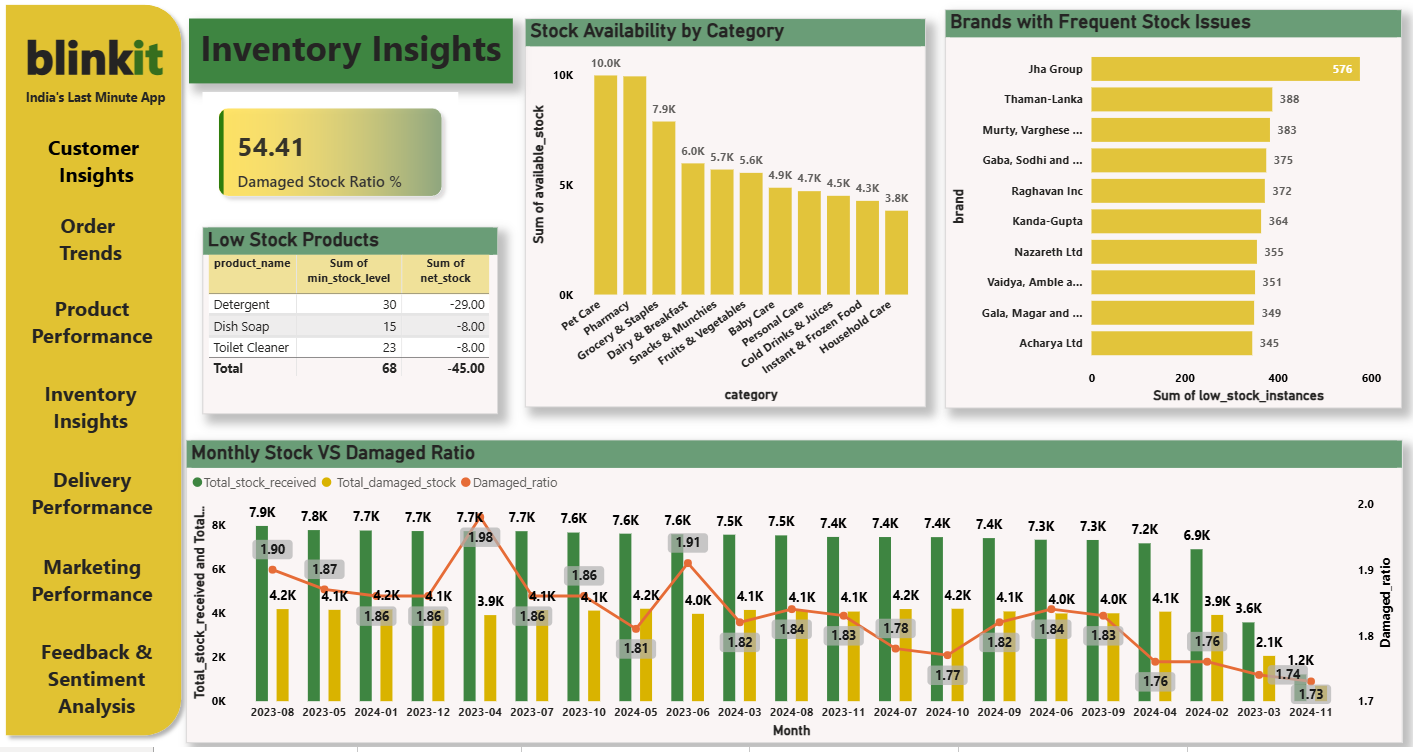

This screenshot's page, from the dashboard's own definition file:
{"tool":"powerbi","page":{"name":"Inventory Insights","canvas":[1500,800],"ordinal":3},"visuals":[{"type":"shape","box":[0,0,204.1,791.4],"z":0},{"type":"textbox","box":[16,24.8,173.9,74.5],"z":1000},{"type":"textbox","box":[19.5,92.3,170.3,30.2],"z":2000},{"type":"textbox","box":[7.1,140.2,191.6,81.6],"z":3000},{"type":"actionButton","box":[8.9,134.9,186.3,81.6],"z":4000},{"type":"textbox","box":[3.5,221.8,191.6,71],"z":5000},{"type":"actionButton","box":[8.9,221.8,186.3,71],"z":6000},{"type":"textbox","box":[5.3,308.8,191.6,71],"z":7000},{"type":"actionButton","box":[10.6,308.8,188.1,71],"z":8000},{"type":"textbox","box":[3.5,399.3,191.6,71],"z":9000},{"type":"actionButton","box":[5.3,404.6,189.9,65.7],"z":10000},{"type":"textbox","box":[5.3,489.8,191.6,71],"z":11000},{"type":"actionButton","box":[7.1,489.8,186.3,71],"z":12000},{"type":"textbox","box":[5.3,582,191.6,71],"z":13000},{"type":"actionButton","box":[7.1,582,186.3,71],"z":14000},{"type":"textbox","box":[8.9,672.5,191.6,99.4],"z":15000},{"type":"actionButton","box":[9.3,672.2,188.9,100],"z":16000},{"type":"textbox","box":[203.7,24.1,342.6,68.5],"z":17000},{"type":"cardVisual","fields":{"Data":["blinkit inventory.Damaged Stock Ratio %"]},"box":[216.7,101.9,270.4,127.8],"z":18000},{"type":"lineClusteredColumnComboChart","title":"Monthly Stock VS Damaged Ratio","fields":{"Category":["blinkit stock_damage_ratio.month"],"Y":["Sum(blinkit stock_damage_ratio.total_stock_received)","Sum(blinkit stock_damage_ratio.total_damaged_stock)"],"Y2":["Avg(blinkit stock_damage_ratio.damaged_ratio)"]},"box":[200,470.4,1287,320.4],"z":19000},{"type":"barChart","title":"Brands with Frequent Stock Issues","fields":{"Category":["blinkit low_stock_brands.brand"],"Y":["Sum(blinkit low_stock_brands.low_stock_instances)"]},"box":[1003.7,14.8,483.3,422.2],"z":20000},{"type":"columnChart","title":"Stock Availability by Category","fields":{"Y":["Sum(blinkit stock_variation_category.available_stock)"],"Category":["blinkit stock_variation_category.category"]},"box":[559.3,24.1,424.1,411.1],"z":21000},{"type":"tableEx","title":"Low Stock Products","fields":{"Values":["blinkit low_stock_products.product_name","Sum(blinkit low_stock_products.min_stock_level)","Sum(blinkit low_stock_products.net_stock)"]},"box":[216.7,244.4,313,198.1],"z":22000}]}

Visuals, with their boxes in screenshot pixels (x1, y1, x2, y2), scaled from the page's 1500x800 canvas onto the 1413x752 screenshot:
shape: 0/0/192/744
textbox: 15/23/179/93
textbox: 18/87/179/115
textbox: 7/132/187/208
actionButton: 8/127/184/204
textbox: 3/208/184/275
actionButton: 8/208/184/275
textbox: 5/290/185/357
actionButton: 10/290/187/357
textbox: 3/375/184/442
actionButton: 5/380/184/442
textbox: 5/460/185/527
actionButton: 7/460/182/527
textbox: 5/547/185/614
actionButton: 7/547/182/614
textbox: 8/632/189/726
actionButton: 9/632/187/726
textbox: 192/23/515/87
cardVisual - blinkit inventory.Damaged Stock Ratio %: 204/96/459/216
"Monthly Stock VS Damaged Ratio" lineClusteredColumnComboChart: 188/442/1401/743
"Brands with Frequent Stock Issues" barChart: 945/14/1401/411
"Stock Availability by Category" columnChart: 527/23/926/409
"Low Stock Products" tableEx: 204/230/499/416
